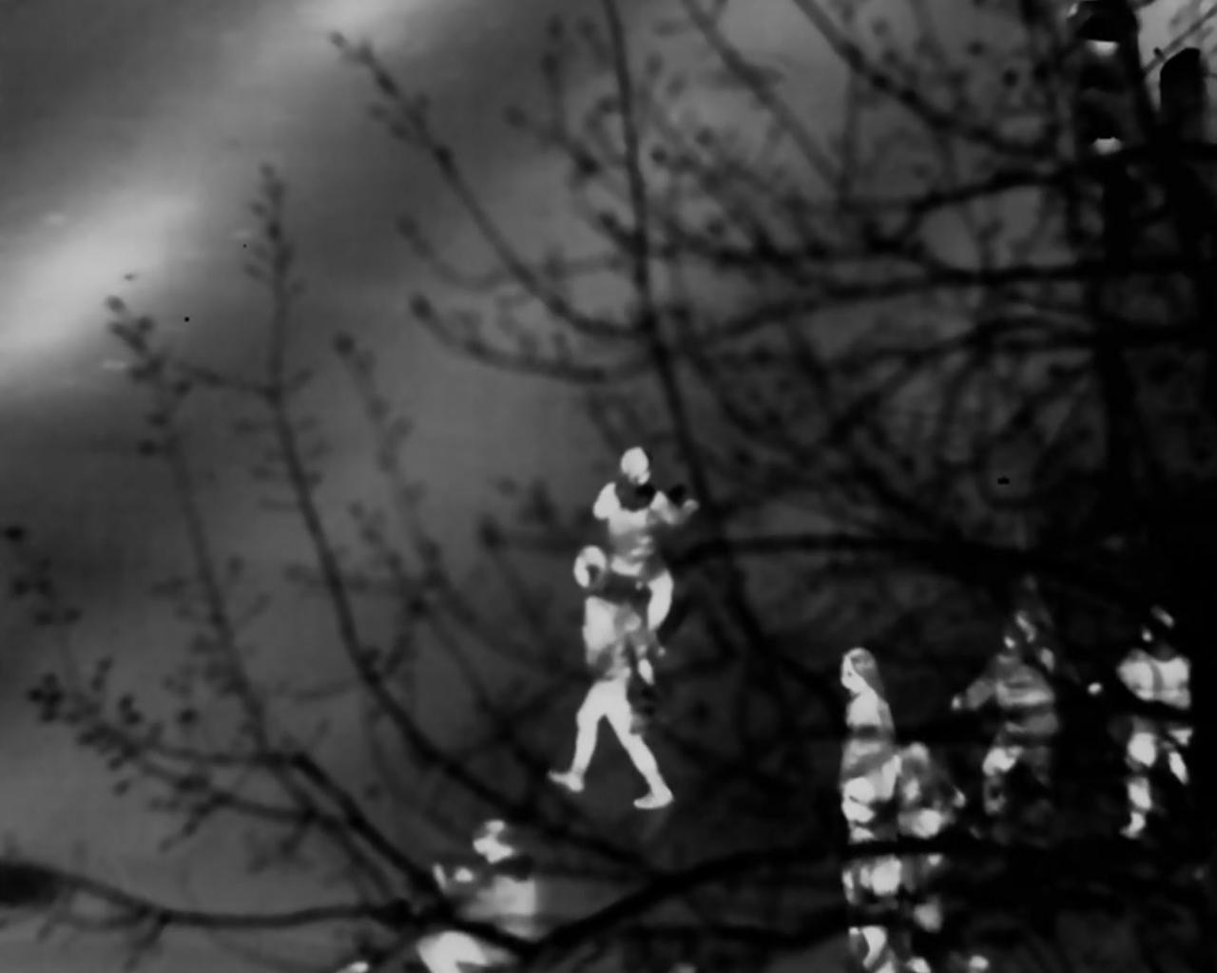person: (559, 542, 675, 820), (592, 444, 684, 639), (988, 605, 1071, 816), (434, 816, 543, 973), (1119, 598, 1185, 837), (834, 640, 898, 855)
